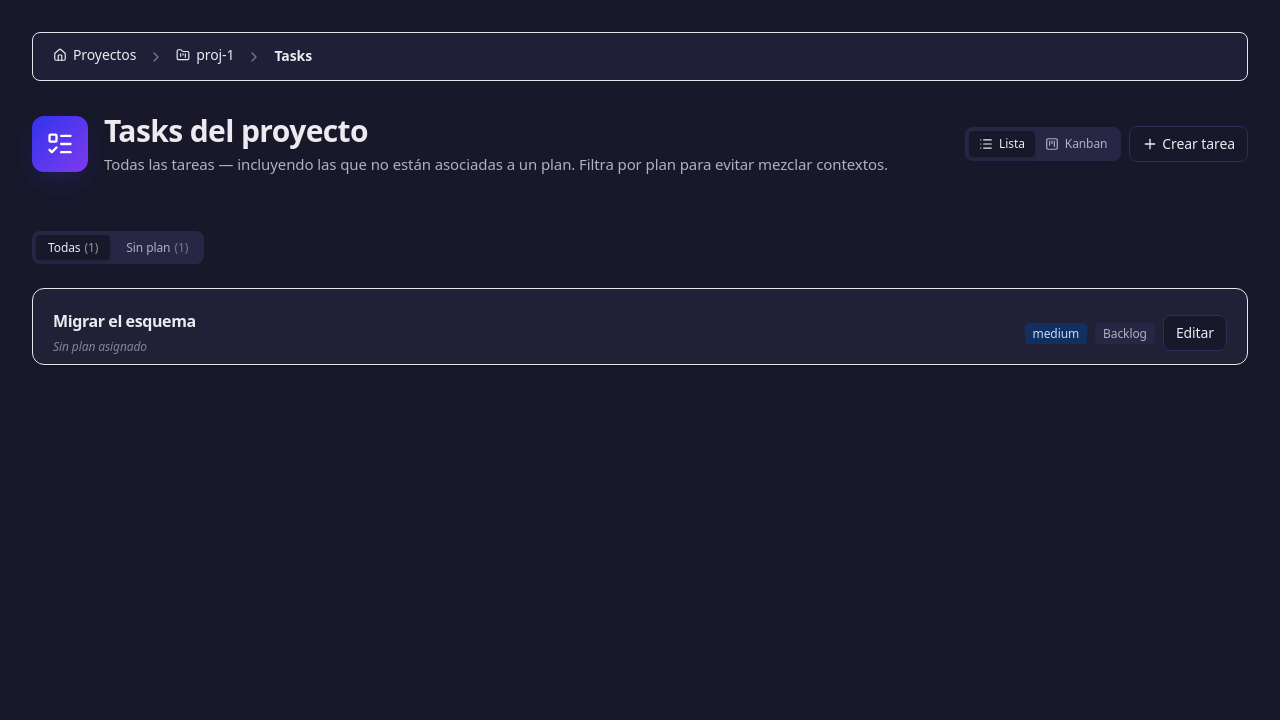
Test: lista de tareas del proyecto › cada fila abre el formulario de edición de SU tarea
This screenshot has width=1280, height=720.
Click the button with test id "task-row-task-1-edit" at [1195, 333], box x1=1163 y1=315 x2=1227 y2=351
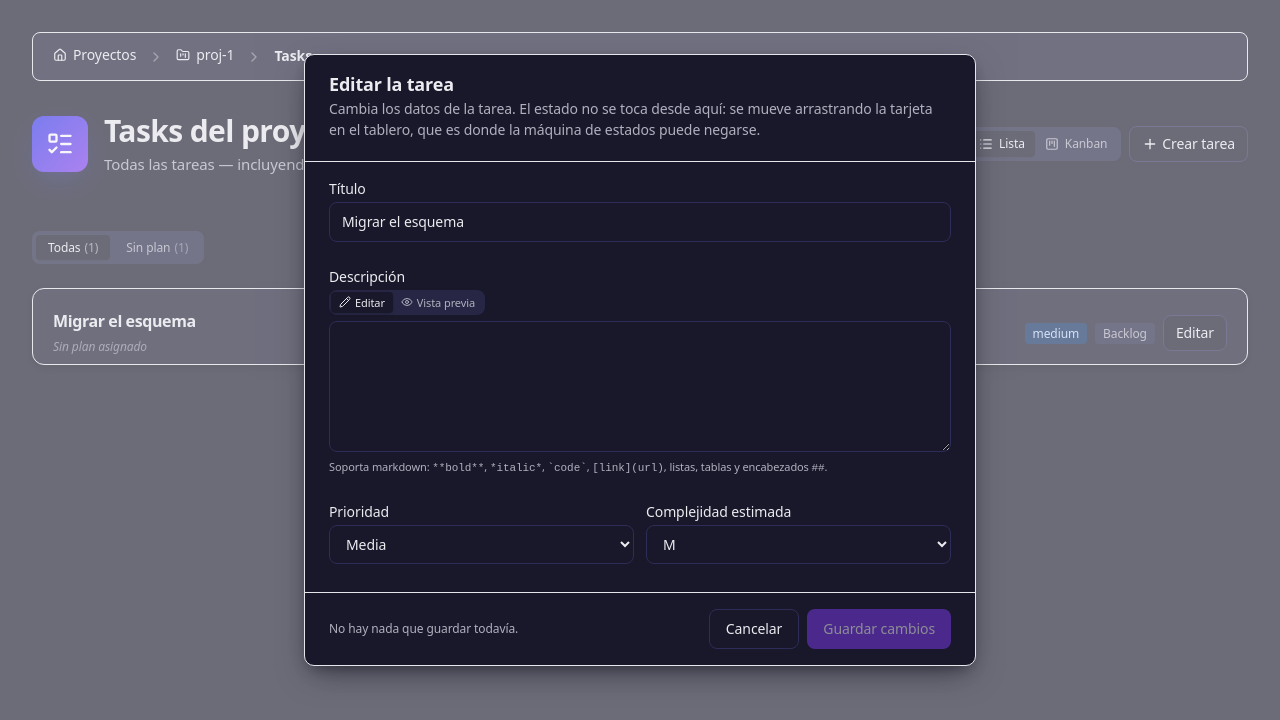
Check: the element with test id "task-edit-dialog" is shown, box x1=304 y1=54 x2=976 y2=666
Check: the field with test id "task-edit-title" holds "Migrar el esquema", box x1=329 y1=202 x2=951 y2=242
